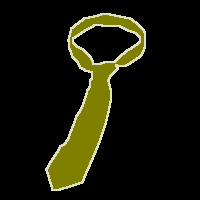tie: (46, 14, 145, 190)
